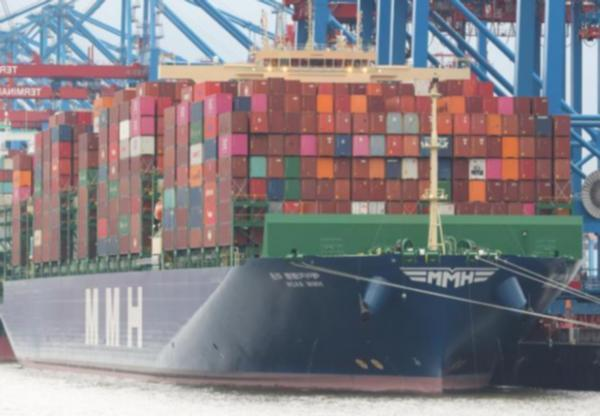Container Ship: (0, 48, 599, 393)
